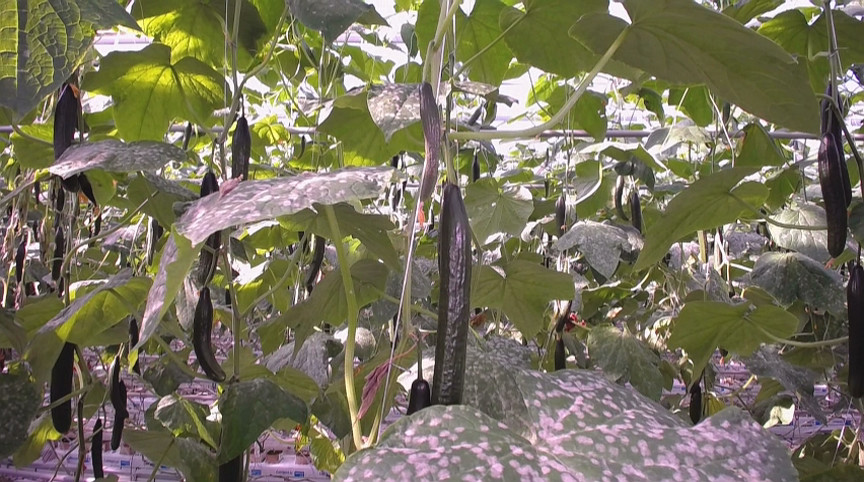cucumber: (431, 186, 473, 405), (818, 132, 848, 260), (191, 289, 227, 381), (55, 89, 81, 193), (199, 171, 223, 283), (420, 80, 442, 202), (846, 265, 864, 398), (51, 340, 75, 433), (231, 117, 253, 182), (110, 384, 131, 451), (91, 417, 106, 479), (406, 381, 431, 416)
